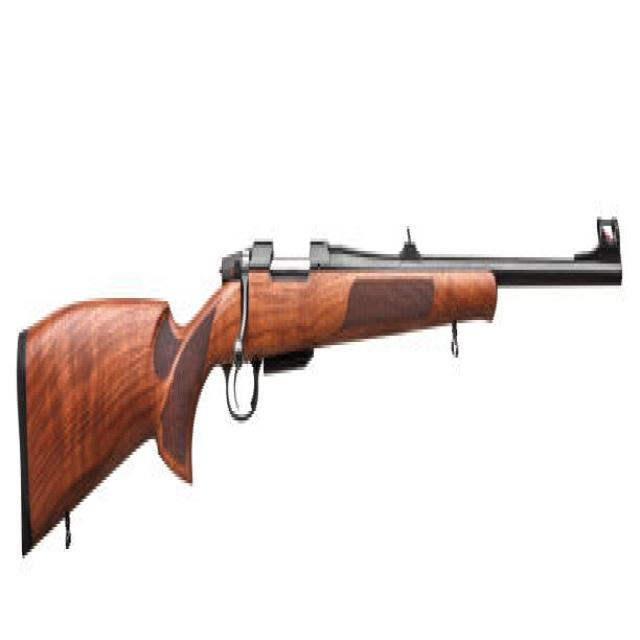rifle: (13, 194, 627, 569)
